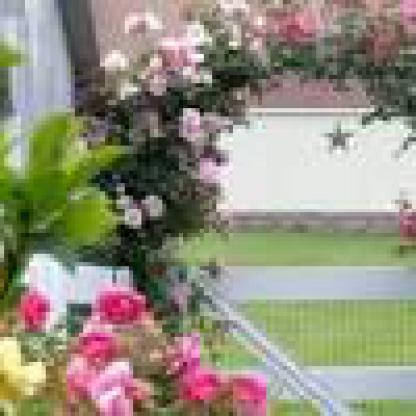Rose-Mawar: (9, 271, 280, 413)
